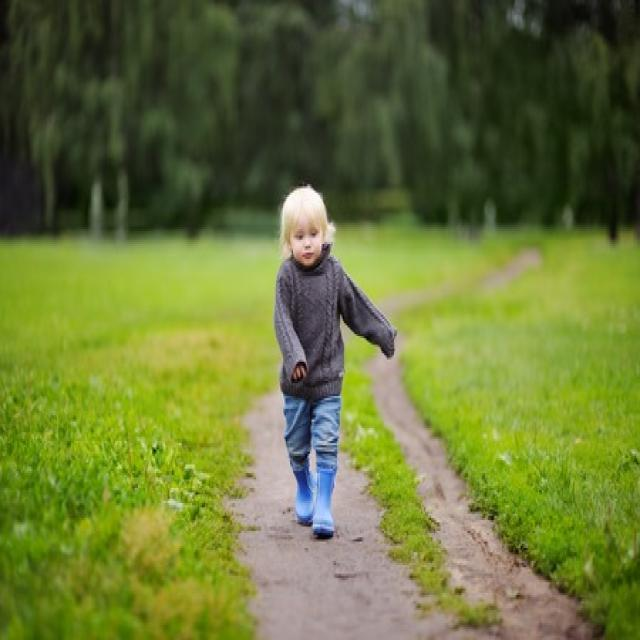Person: (274, 185, 396, 538)
